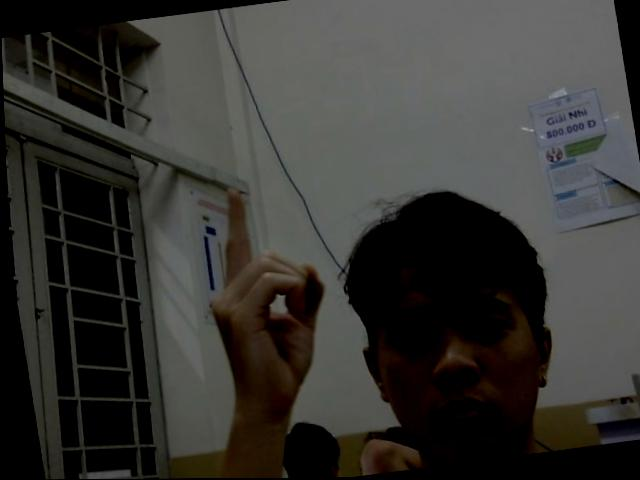D: (190, 177, 344, 424)
